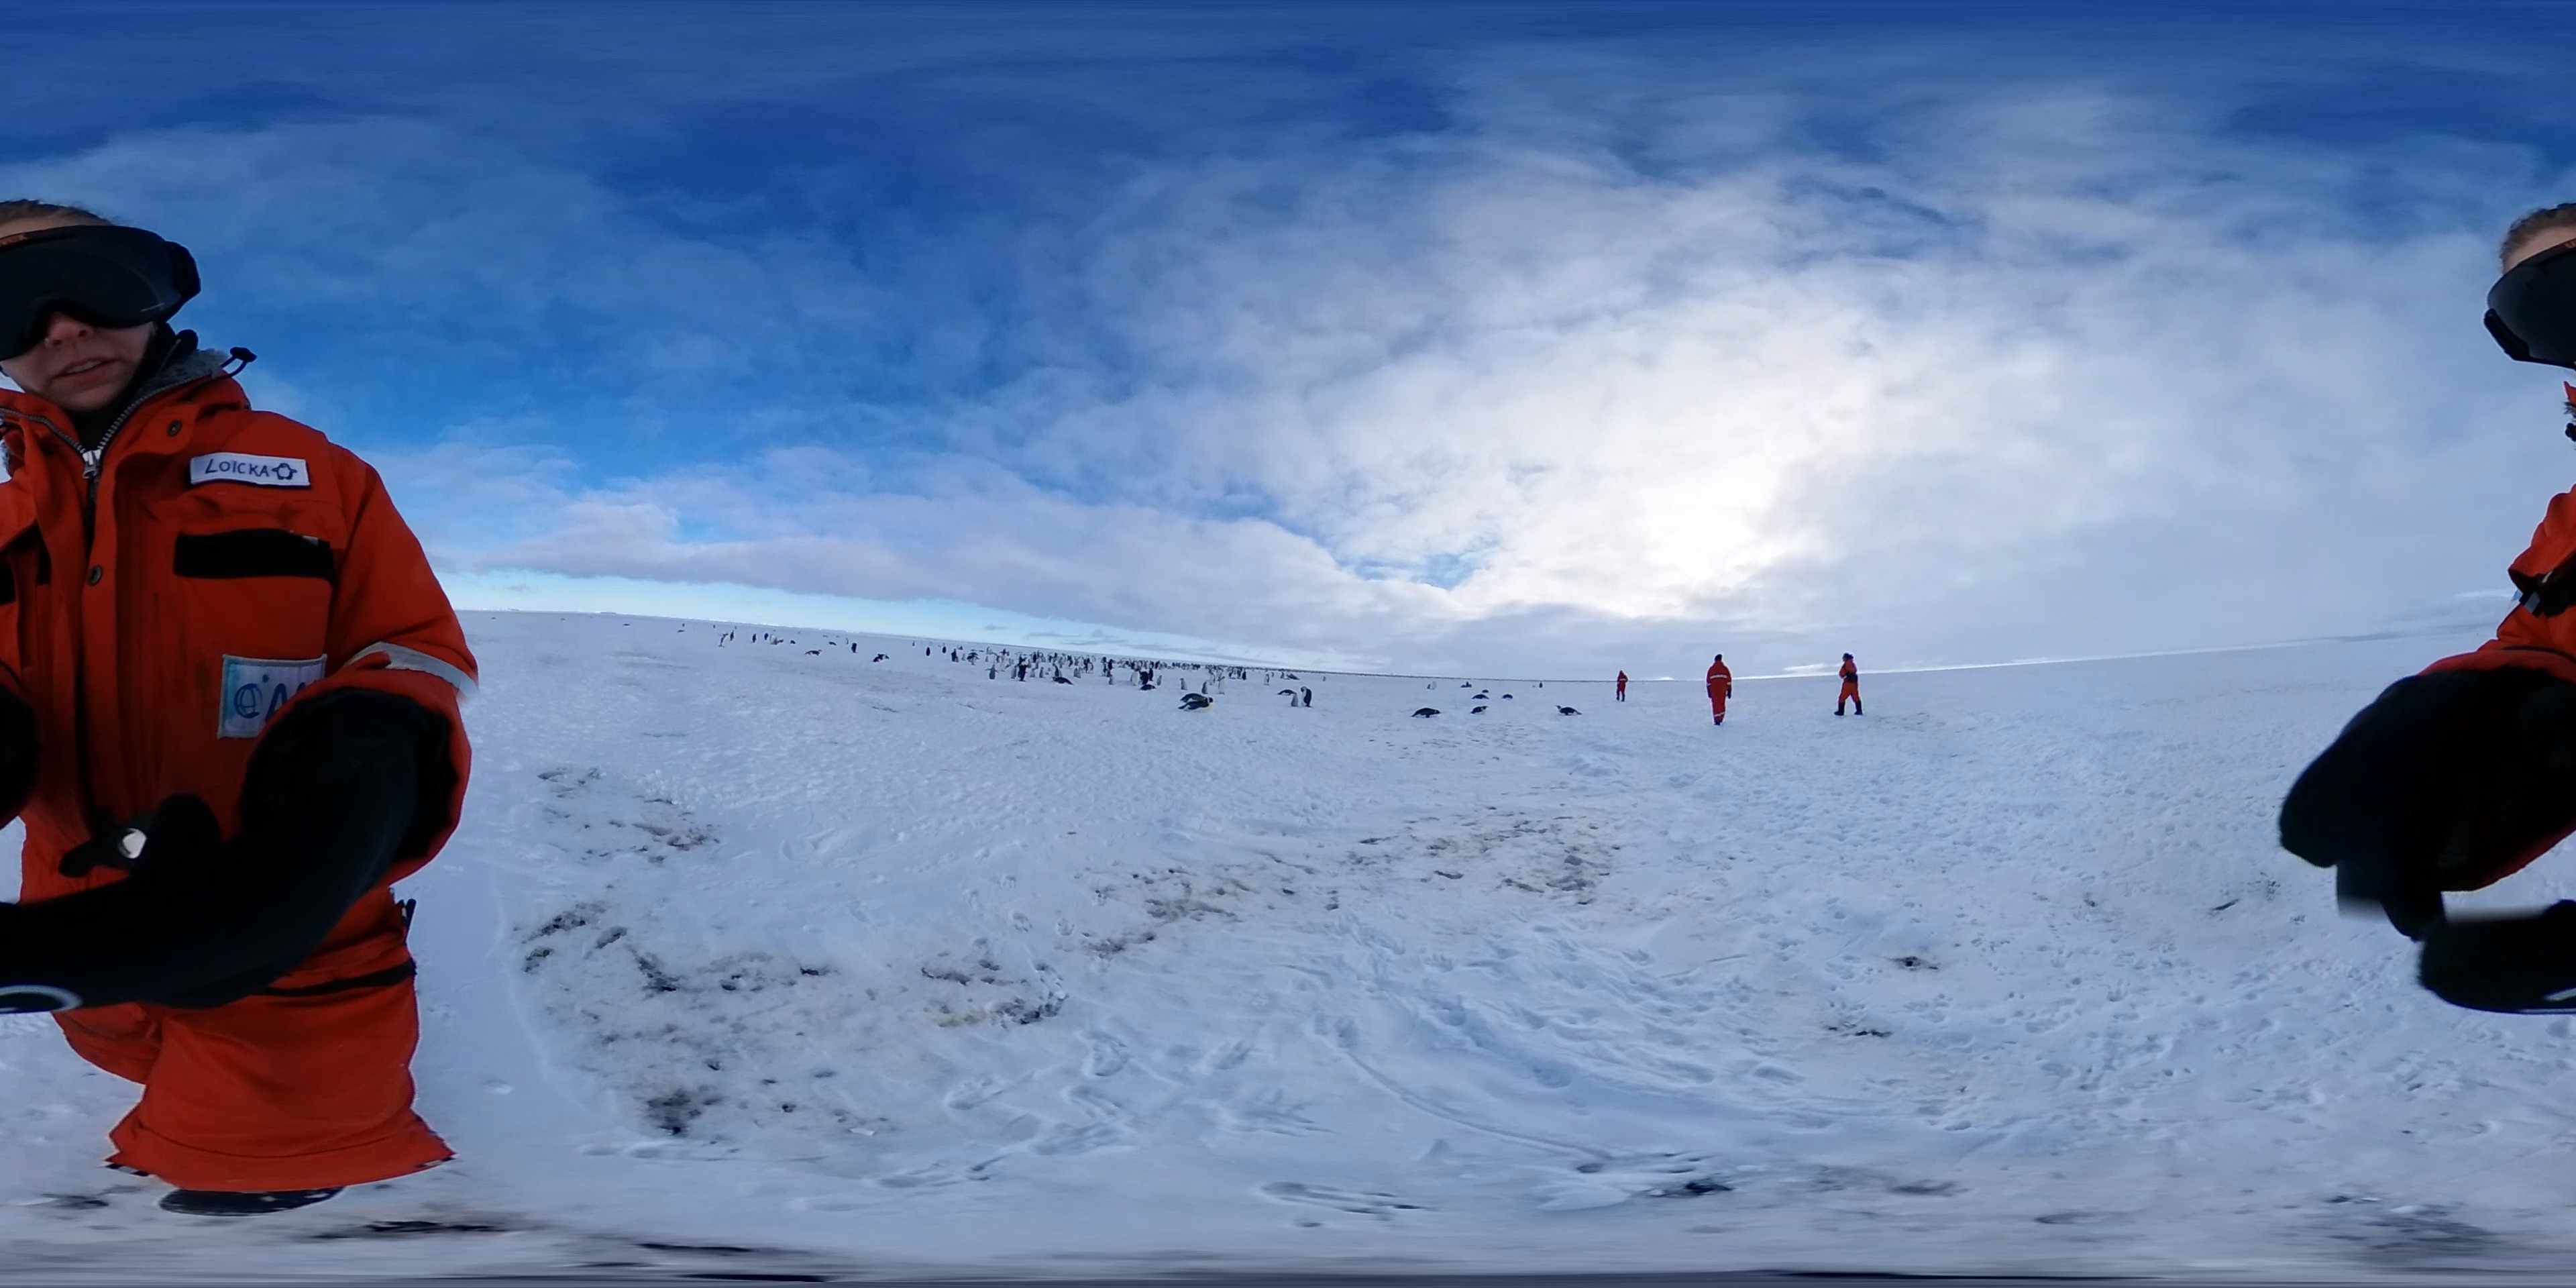adult_standing_penguin: (1296, 683, 1316, 710)
adult_toboggan_penguin: (1175, 698, 1214, 713), (1408, 708, 1442, 721), (1552, 703, 1582, 716), (1050, 675, 1074, 688), (1465, 706, 1493, 715)
juvenile_penguin: (982, 665, 999, 683), (1286, 692, 1299, 706)
researcher: (0, 151, 462, 1224), (1830, 651, 1866, 718), (1705, 651, 1736, 728), (1615, 669, 1628, 703)
